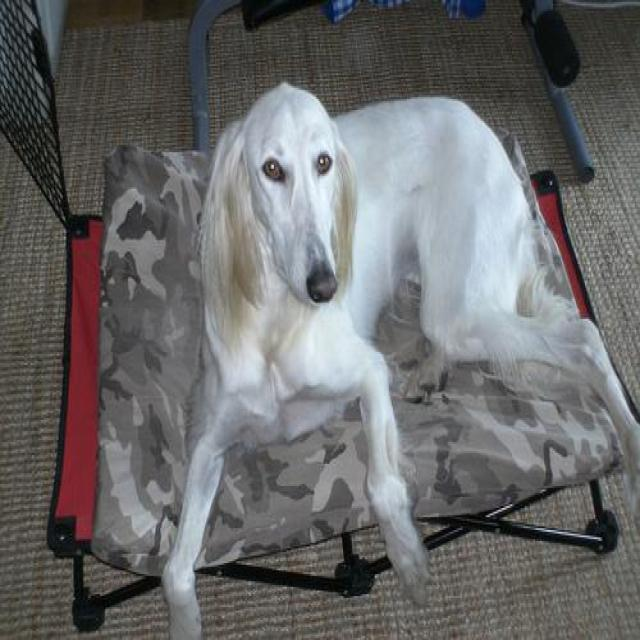saluki: (161, 79, 639, 638)
